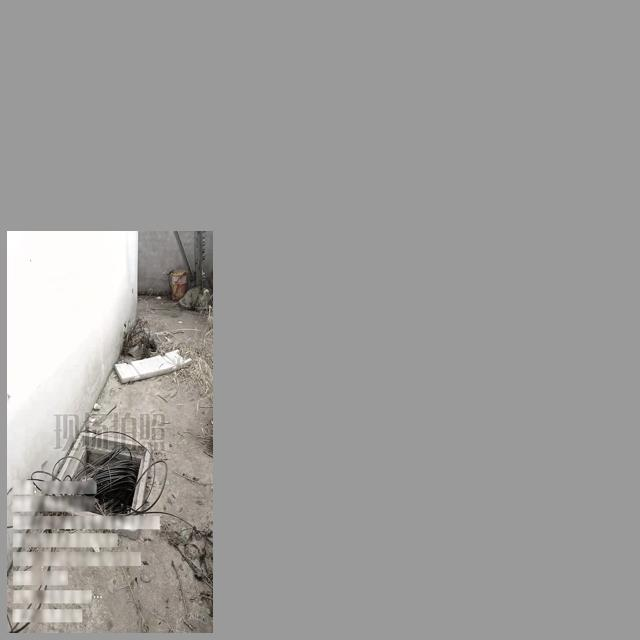lose: (42, 432, 151, 541)
